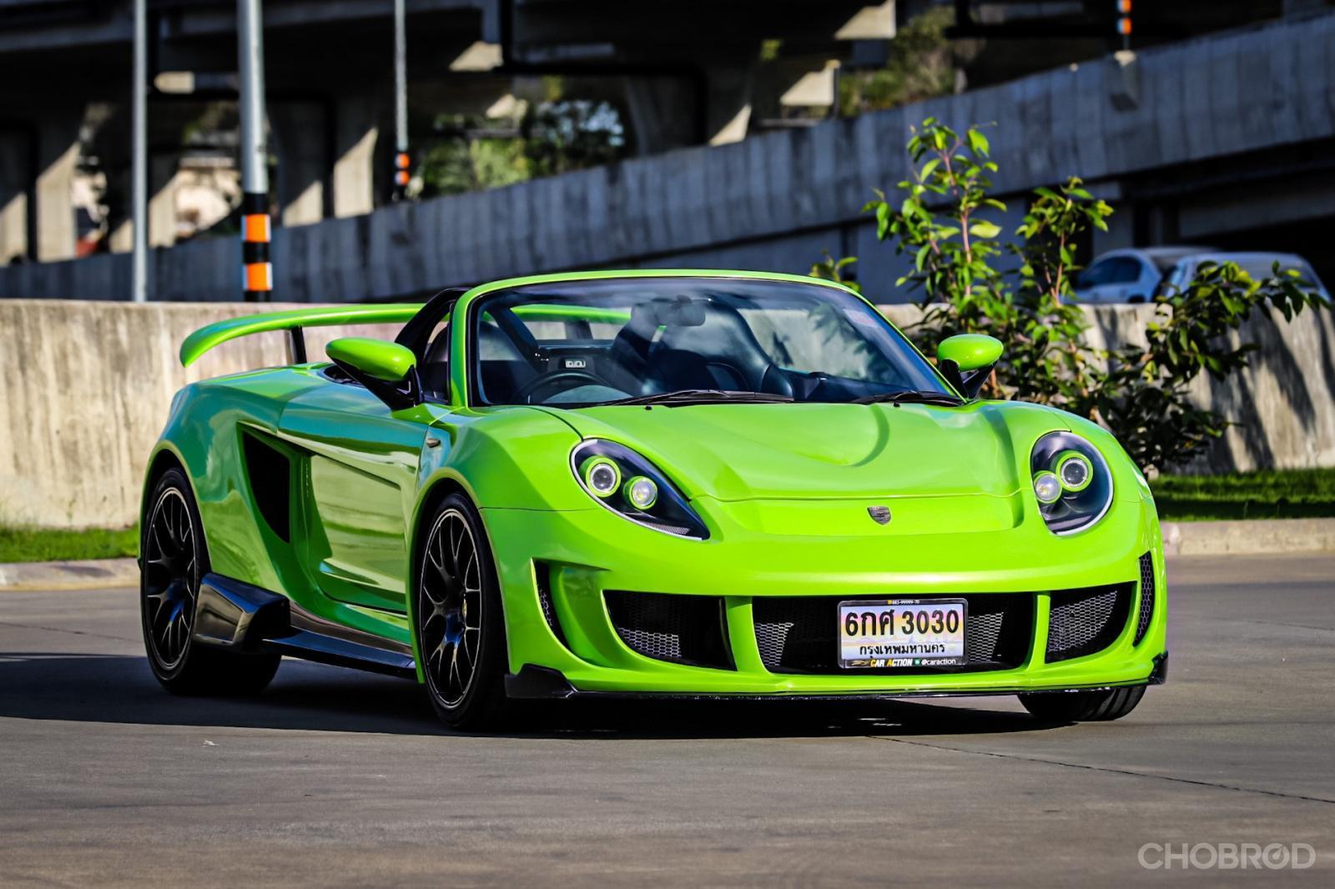license-plate: (834, 596, 969, 668)
